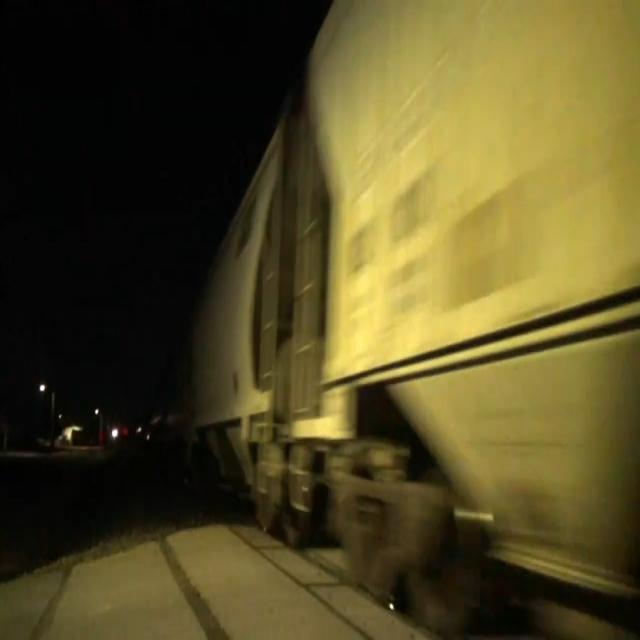hopper: (288, 0, 640, 640), (159, 94, 307, 566)
